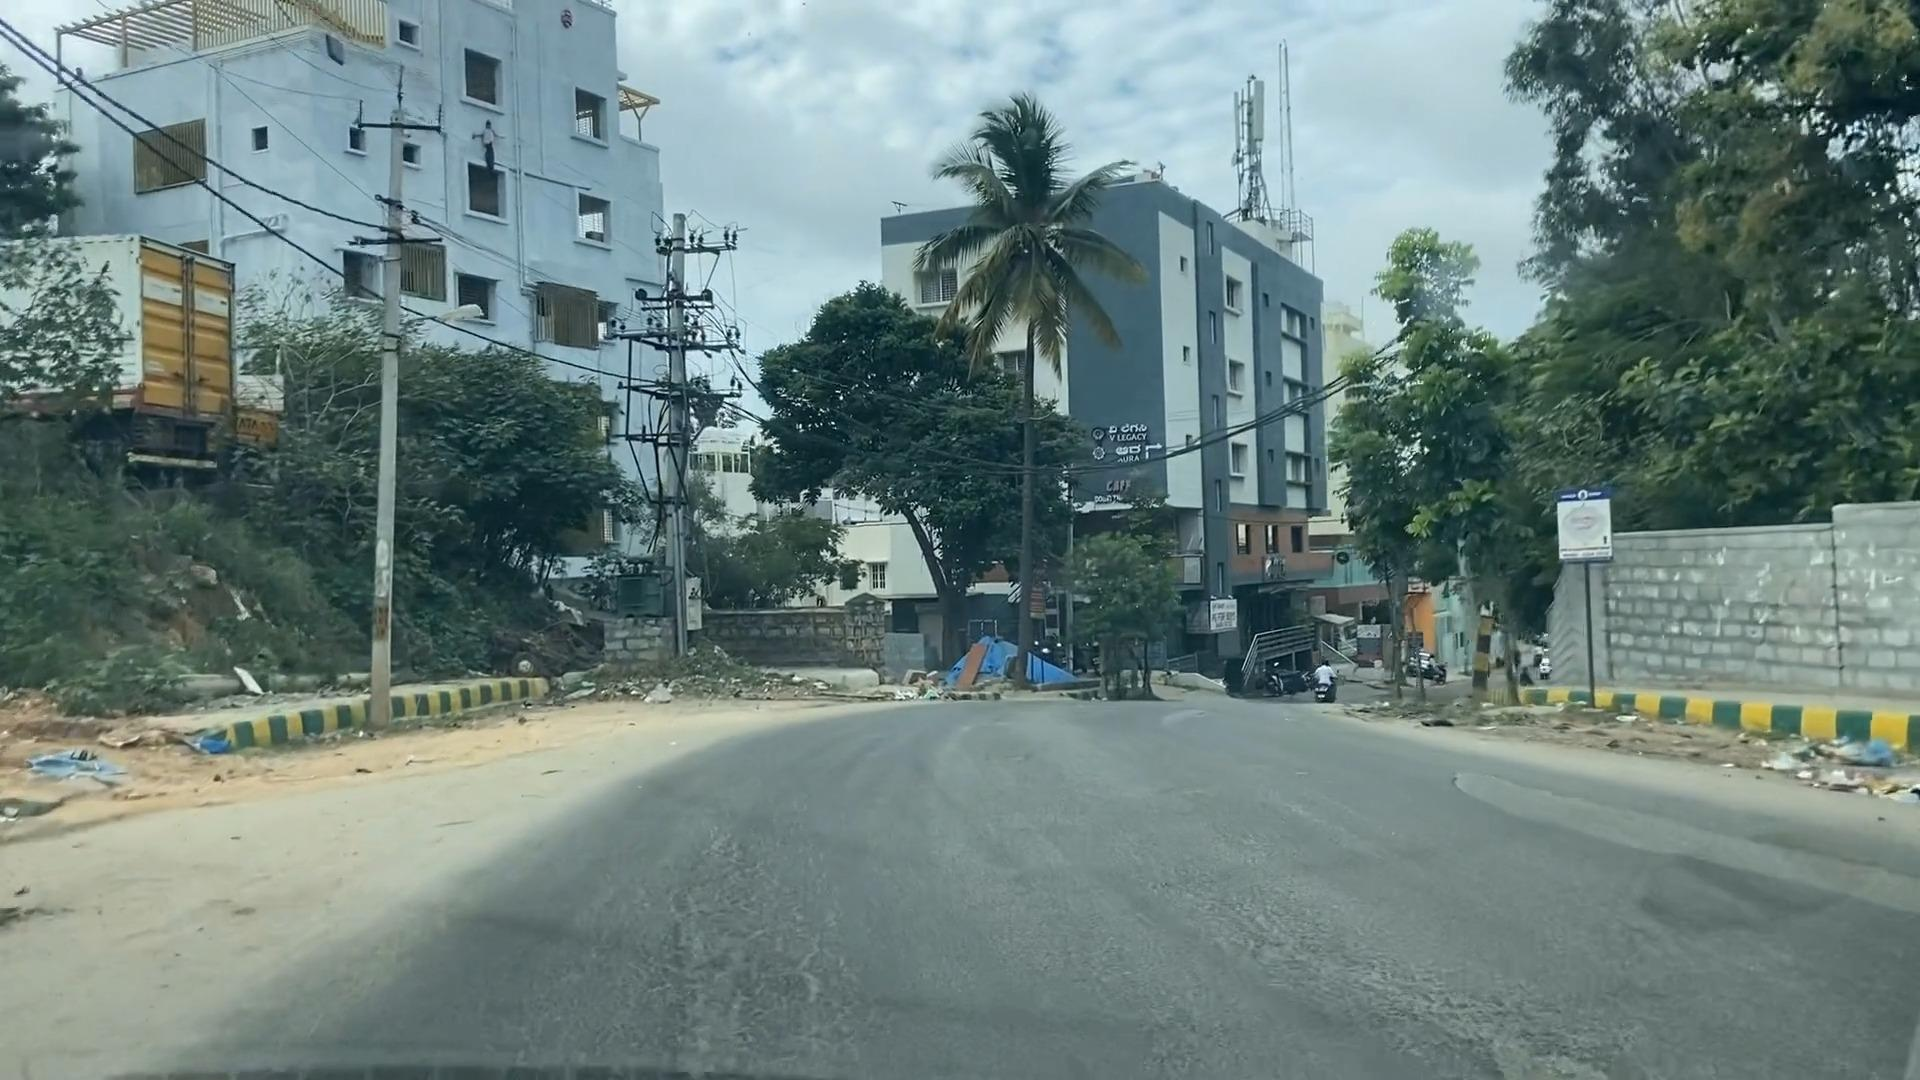RoadDamages: (1424, 738, 1920, 994), (1274, 913, 1654, 1080)
